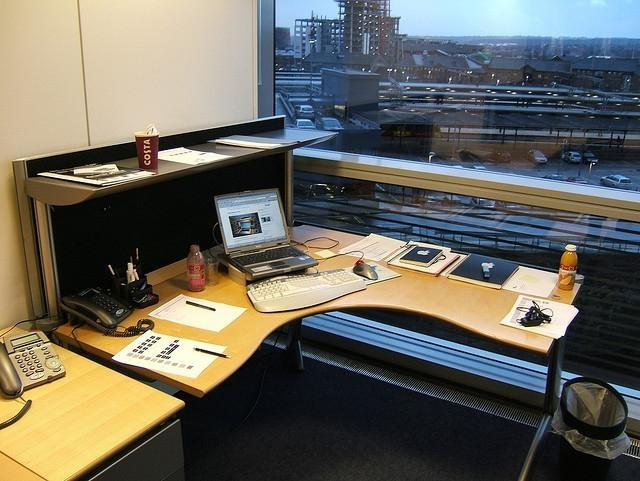car: (454, 144, 499, 169), (304, 184, 335, 200), (600, 174, 634, 188), (316, 117, 343, 130), (294, 104, 314, 121), (491, 148, 515, 162), (526, 150, 547, 164), (582, 150, 599, 166), (296, 118, 316, 130), (469, 198, 495, 206), (566, 152, 582, 164), (564, 176, 588, 184)
